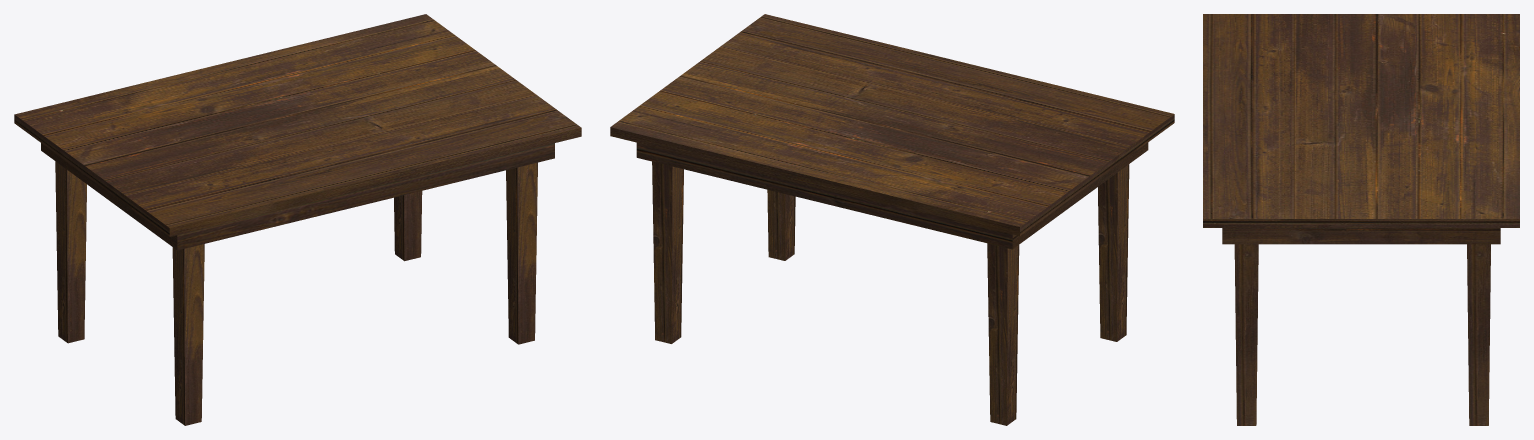
File: table.fbx
3 views of the same model, side by side, from view 1: azimuth 30°, elevation 25°; view 2: azimuth 150°, elevation 25°; view 3: azimuth 270°, elevation 25° (orthographic). The views are drawn at different scales.
Visible parts, largest first — view 1: pCube18; view 2: pCube18; view 3: pCube18.
Part boxes in pixels (x1,y1,x2,y2): pCube18: (14, 14, 581, 425); pCube18: (610, 14, 1174, 425); pCube18: (1203, 14, 1519, 425).
Size of the model in its own units: 2.03 by 1.02 by 1.32.
Materials: 1 (1 with a texture image).
